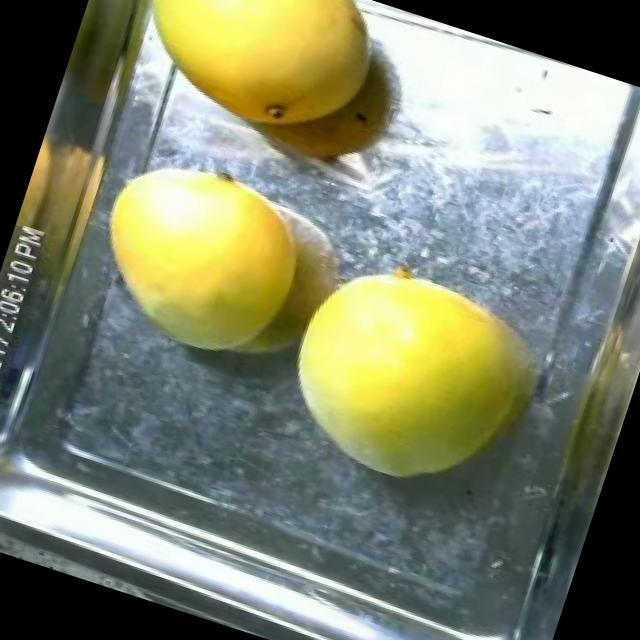fruit: (252, 230, 580, 532), (69, 132, 334, 382), (110, 0, 402, 168)
